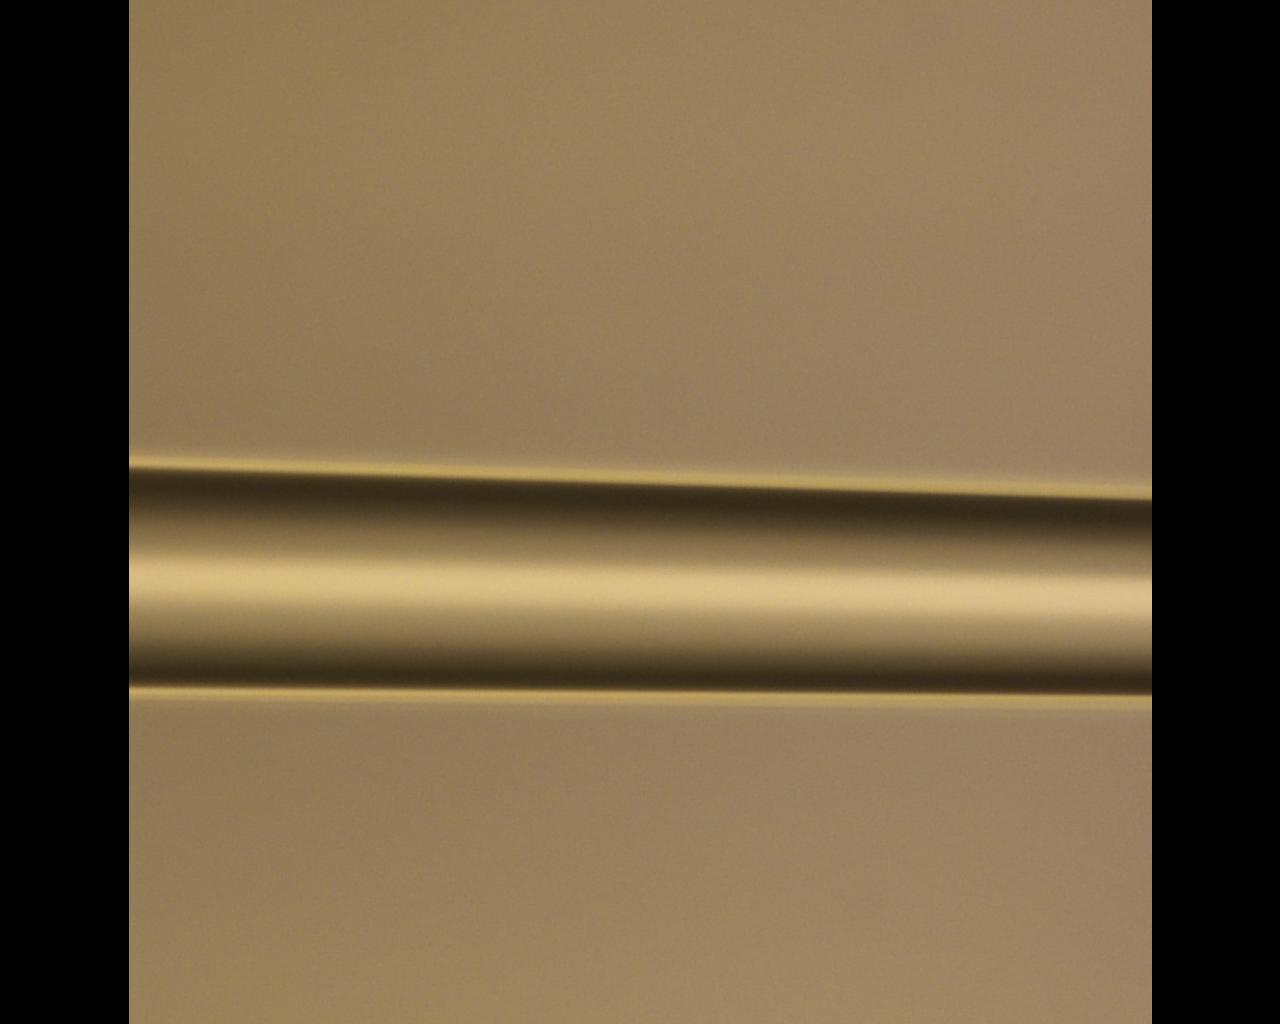fiber: (605, 327, 790, 1024), (0, 505, 499, 556)
